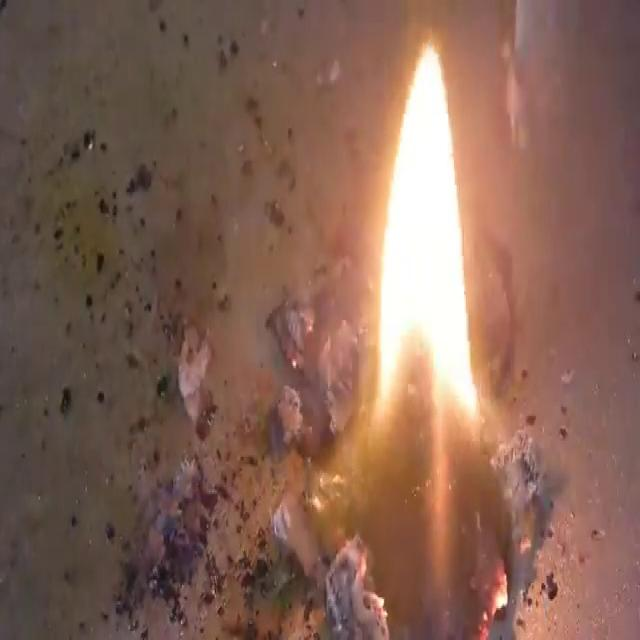Fire: (4, 4, 635, 636), (372, 38, 481, 430)
